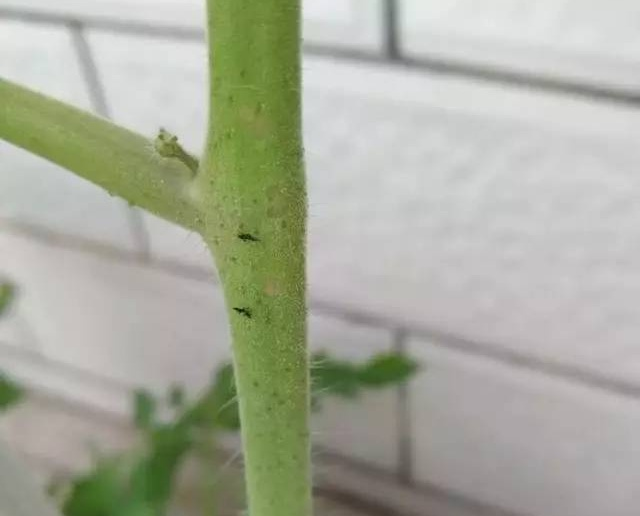Phlaeothripidae: (229, 303, 257, 321), (233, 230, 262, 246)
